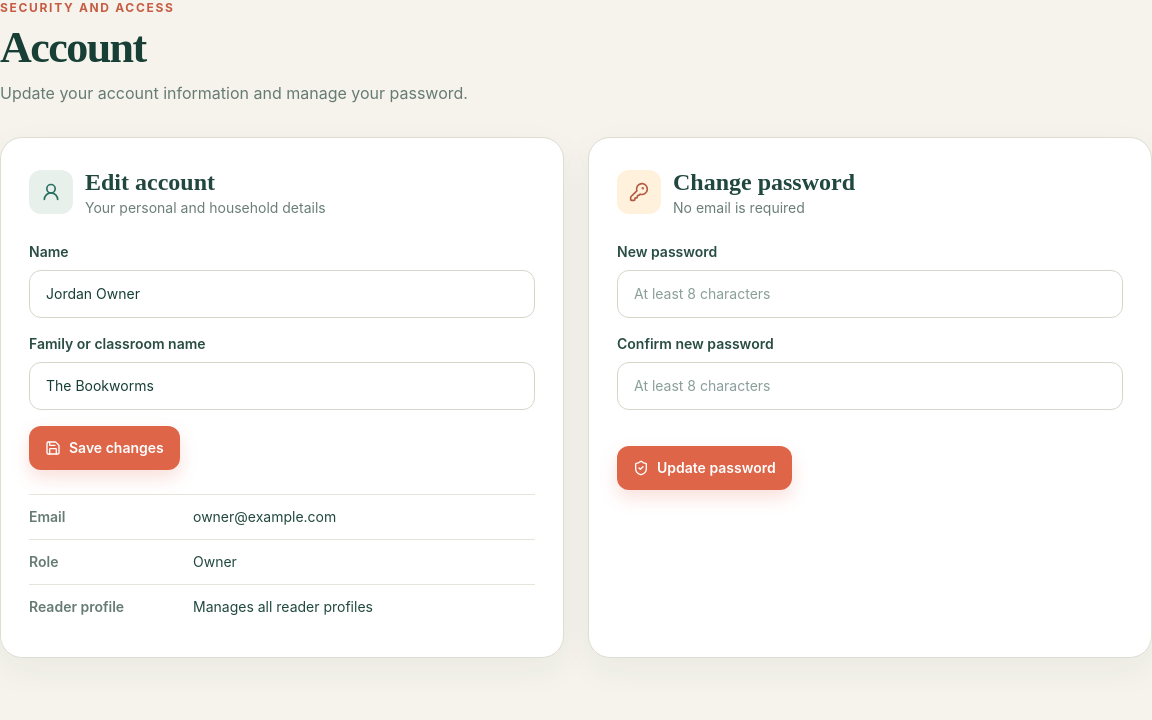
Test case: AccountPage › updates the account name and owner household name
The width and height of the screenshot is (1152, 720).
Replace the text in the field labelled "Name" with "Jordan Smith" at (282, 294), box [29,270,535,318]
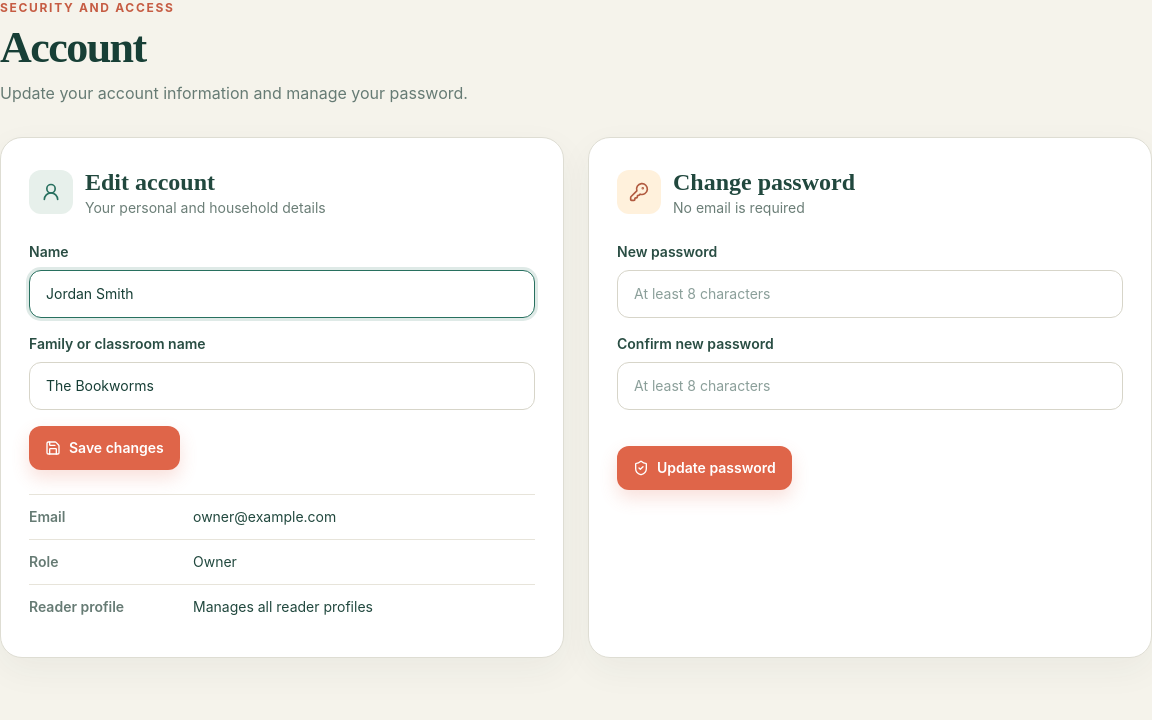
Replace the text in the field labelled "Family or classroom name" with "Smith Family Readers" at (282, 386), box [29,362,535,410]
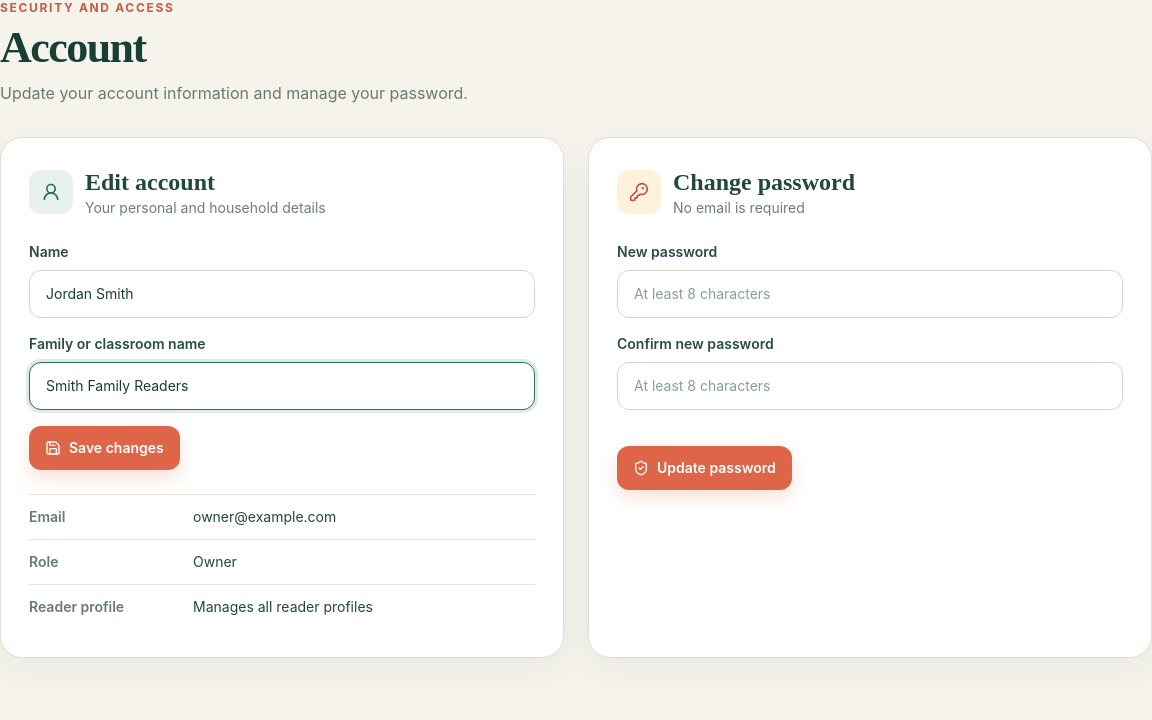
Click the button "Save changes".
click(104, 448)  # box [29,426,180,470]
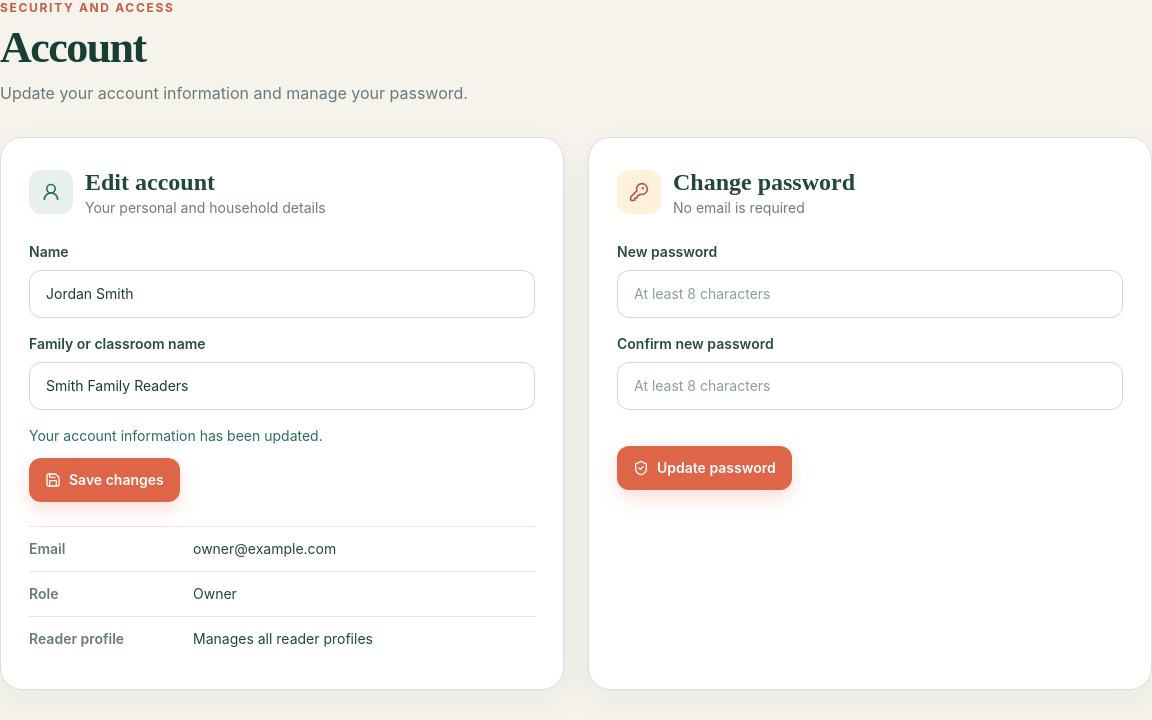
Now the text "Your account information has been updated." is shown, box [29,427,323,444]
